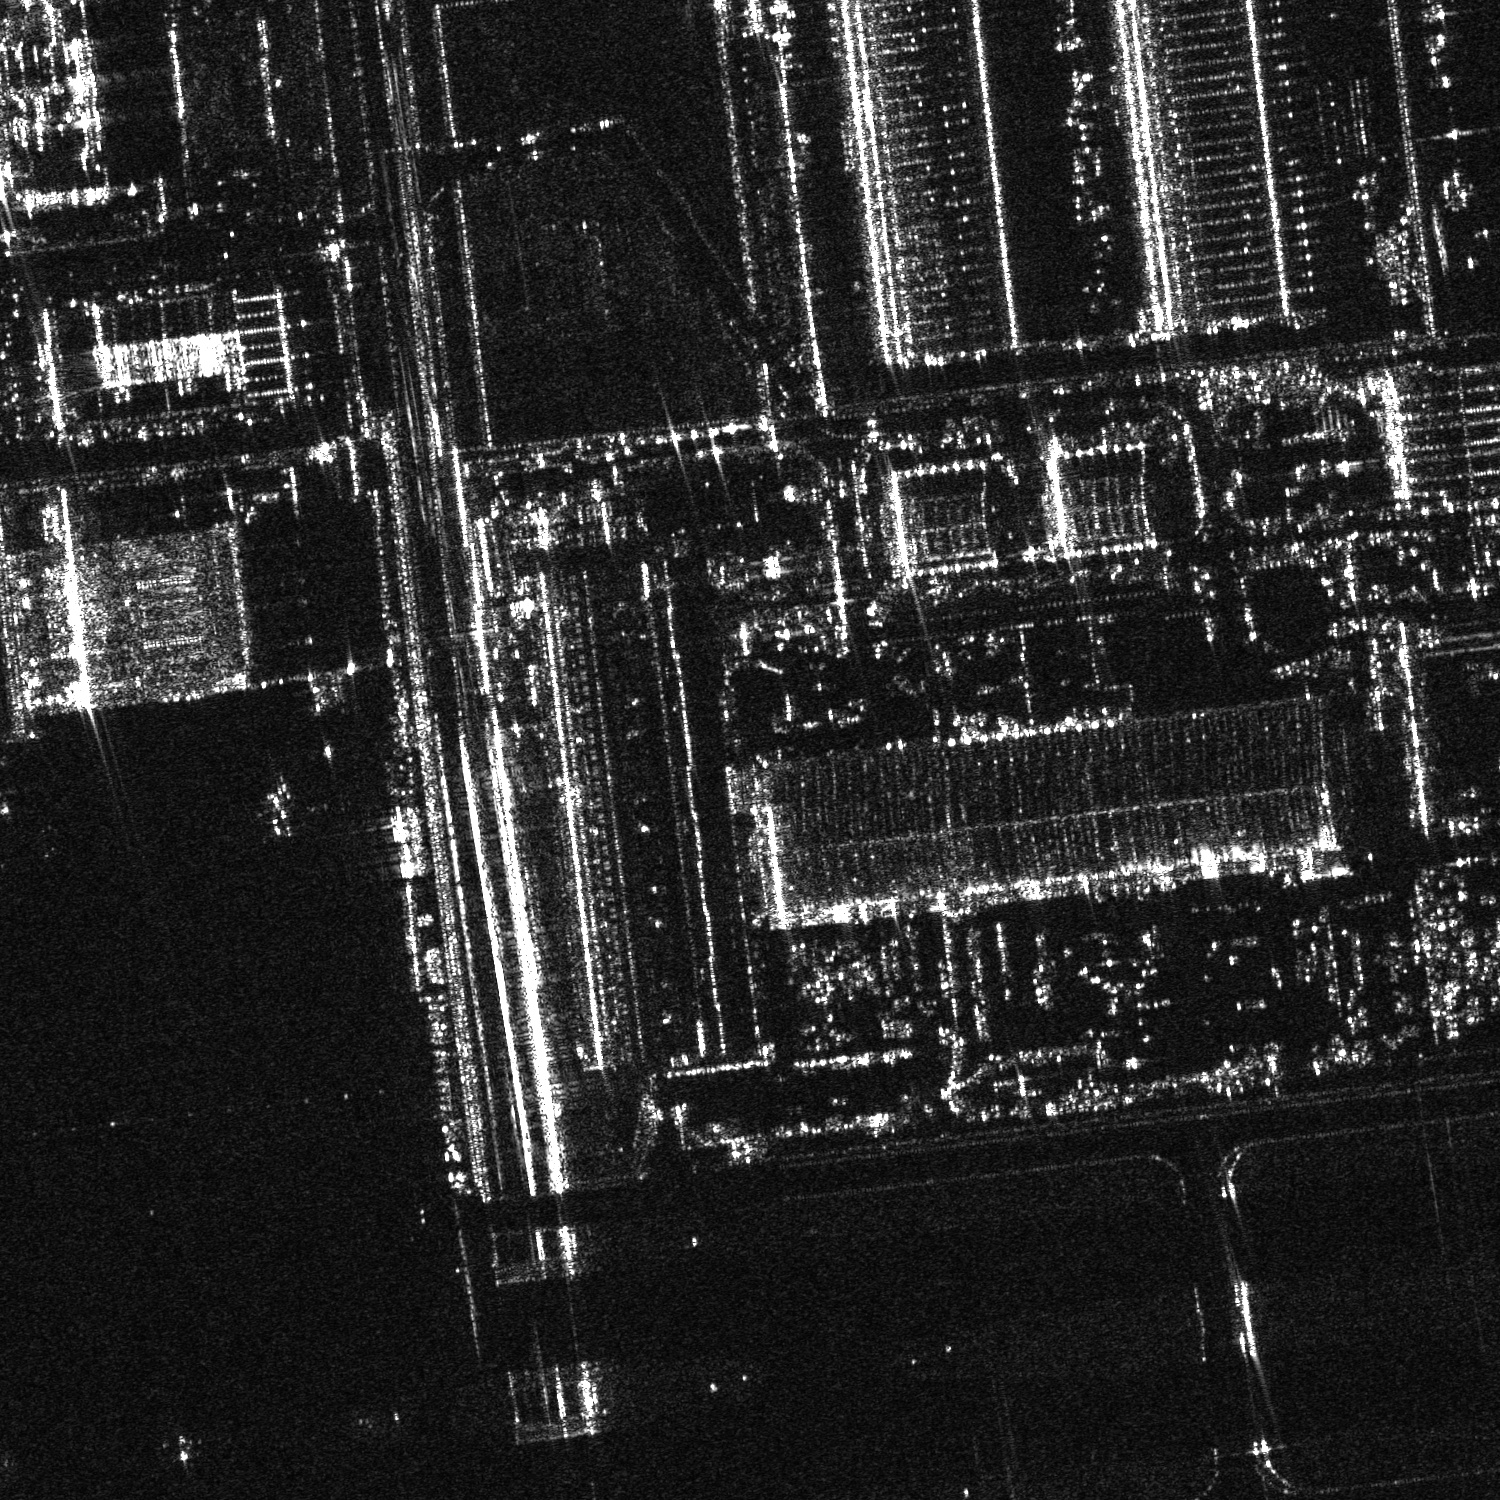A320/321: (249, 773, 313, 841)
A330: (159, 1429, 203, 1466)
